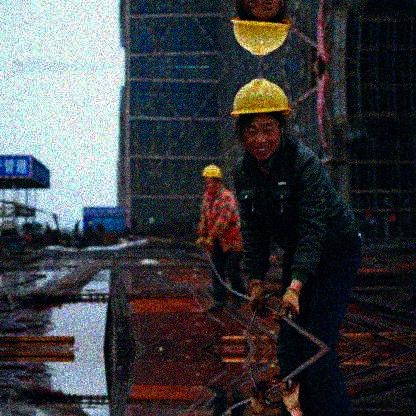helmet: (229, 78, 292, 160), (231, 1, 291, 57), (200, 163, 224, 192)
